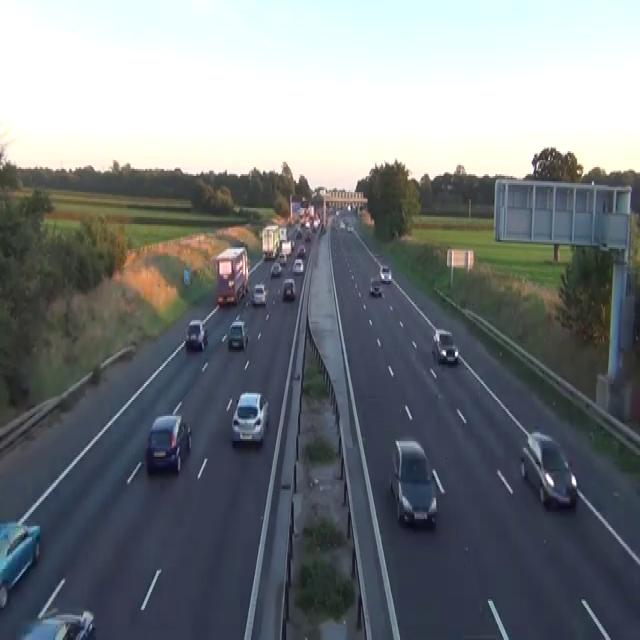Car: (14, 576, 95, 638), (520, 431, 577, 508), (390, 439, 437, 528), (0, 519, 40, 608), (145, 412, 191, 474), (14, 608, 94, 638), (231, 391, 269, 445), (0, 615, 71, 638), (432, 327, 458, 365), (184, 318, 208, 350), (227, 320, 248, 348), (251, 282, 267, 306), (282, 278, 295, 300), (379, 265, 391, 283), (369, 277, 380, 295), (339, 217, 353, 231), (270, 262, 282, 278), (292, 258, 303, 274), (296, 245, 306, 258), (278, 251, 286, 265), (264, 249, 274, 259), (312, 219, 320, 231), (304, 231, 311, 242), (295, 228, 302, 238), (339, 220, 345, 228), (321, 224, 326, 233), (291, 240, 295, 251), (347, 224, 353, 231), (305, 220, 310, 228), (347, 202, 351, 210)
Truck: (214, 245, 249, 306), (261, 224, 280, 260)
